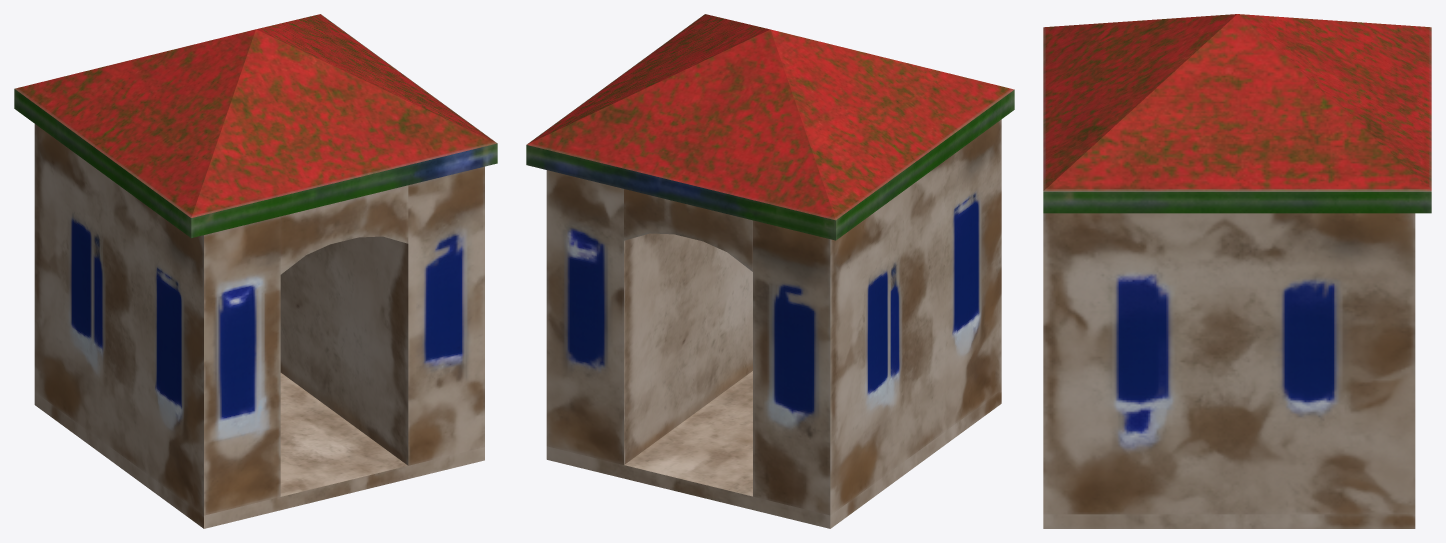
Rendered from exit2.glb.
3 renders of one model, left to right at view 1: azimuth 30°, elevation 25°; view 2: azimuth 150°, elevation 25°; view 3: azimuth 270°, elevation 25°, orthographic. The views are drawn at different scales.
Visible parts, largest first — view 1: geometry_0; view 2: geometry_0; view 3: geometry_0.
Boxes of the visible parts, x1,y1,x2,y2 form: geometry_0: (14, 14, 497, 528); geometry_0: (526, 14, 1014, 528); geometry_0: (1043, 14, 1431, 528).
Bounding box in the file's own units: 0.8 × 1 × 0.8.
Materials: 1 (1 with a texture image).
